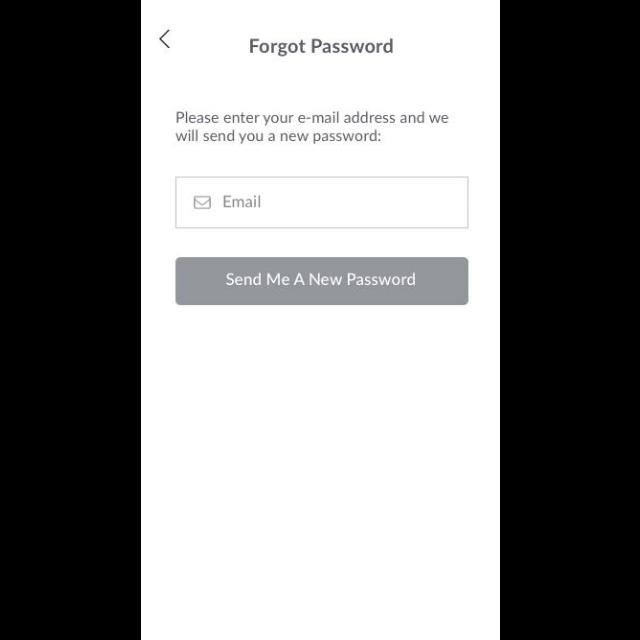icon: (193, 197, 210, 210), (159, 31, 169, 49)
input: (176, 178, 468, 228)
text: (175, 111, 448, 145), (251, 39, 393, 57), (223, 196, 260, 208)
textbutton: (176, 258, 468, 306)
